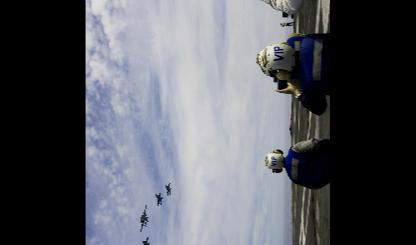C5: (140, 204, 150, 232)
F15: (156, 192, 164, 206), (165, 182, 172, 196), (142, 236, 151, 244)
